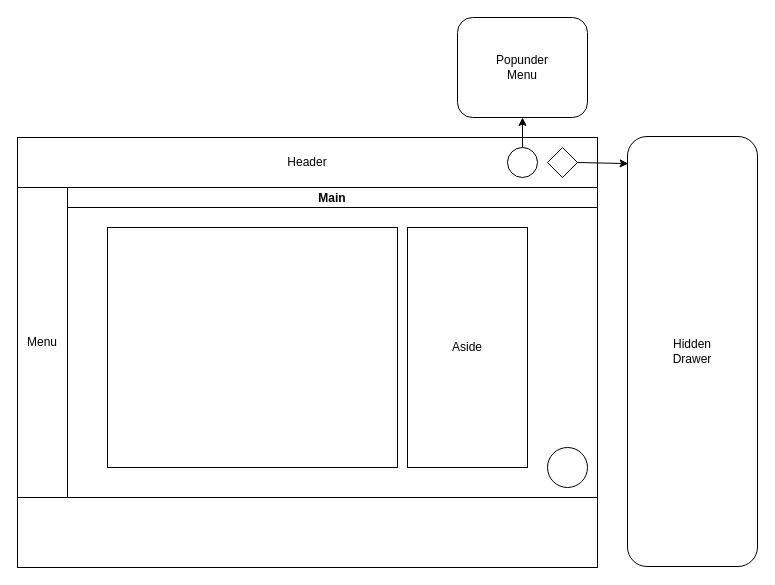
This 775x585 diagram has some shape labels left out. The shapes that lost their labels are listed below. From the top down, each one's centre as x and y in pixels, then its label:
At [252,347]: "Article".
At [567,467]: "FAB".
At [307,532]: "Footer".
